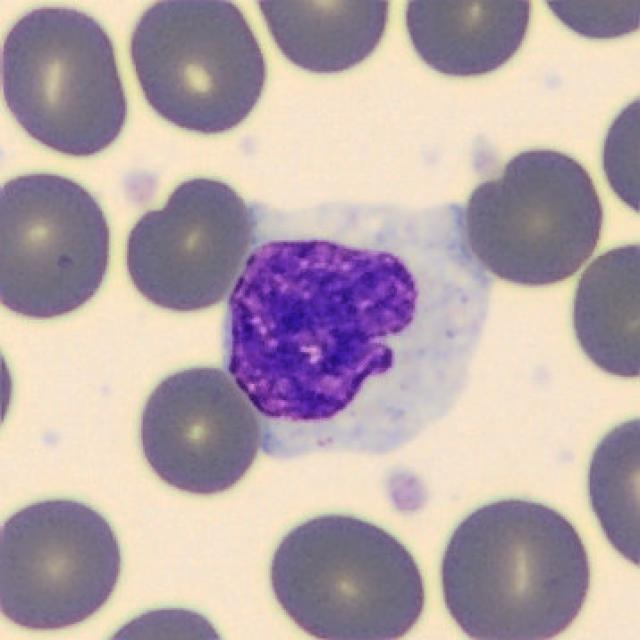Linfocito atipico: (227, 204, 488, 455)
